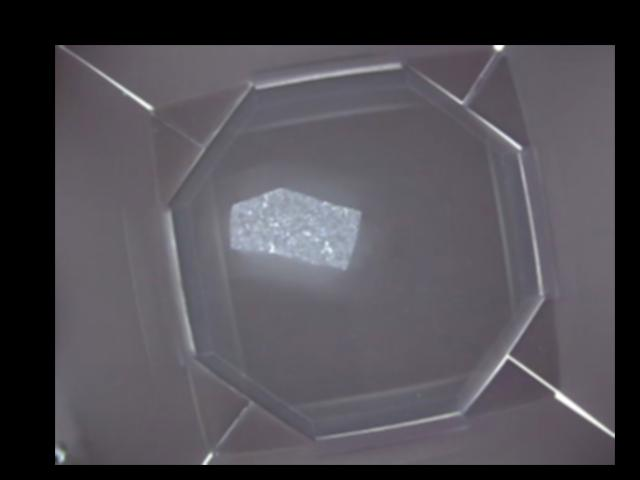China: (233, 186, 363, 271)
